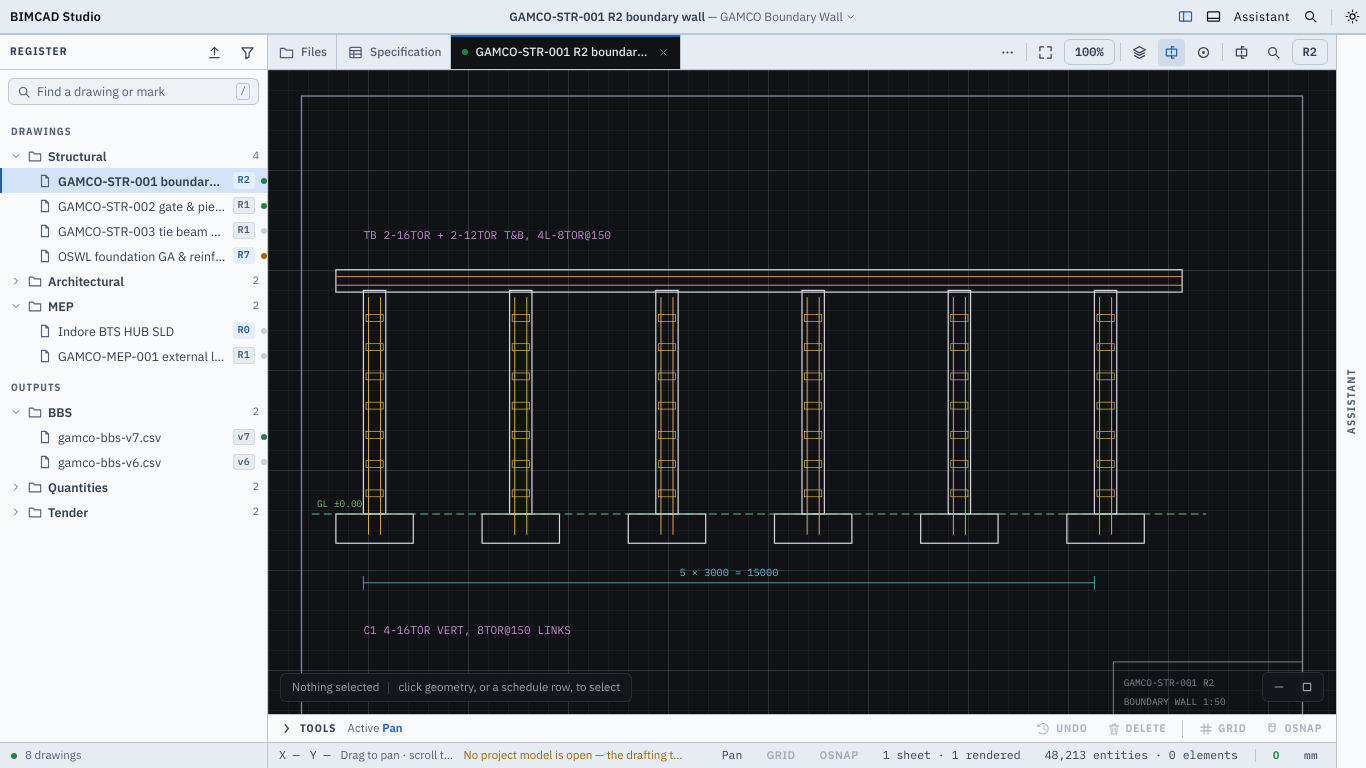
Test: the dock tab strip with a drawing open › shows Details and Ask as the primary tabs, and three utilities to their right
Click the button with test id "toggle-assistant".
click(1262, 16)  # box [1234,4,1290,28]
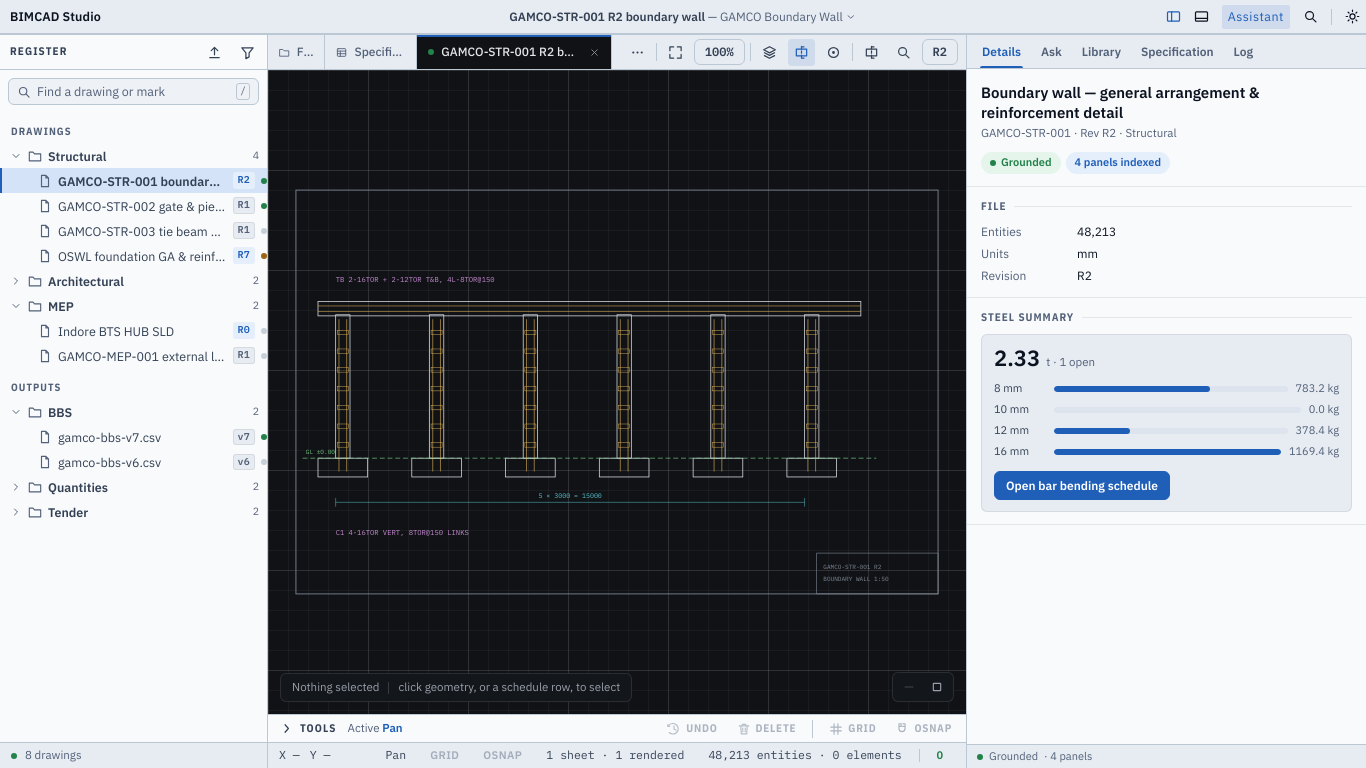
Expected: the tab "Library" is shown, [1073,35,1130,68]
Expected: the tab "Specification" is shown, [1132,35,1222,68]
Expected: the tab "Log" is shown, [1224,35,1262,68]
